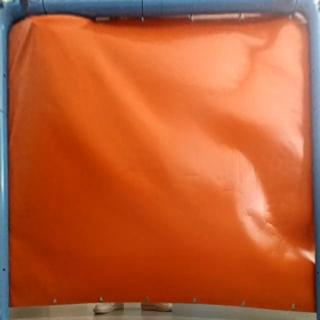Hit-hRxx: (29, 18, 40, 28)
